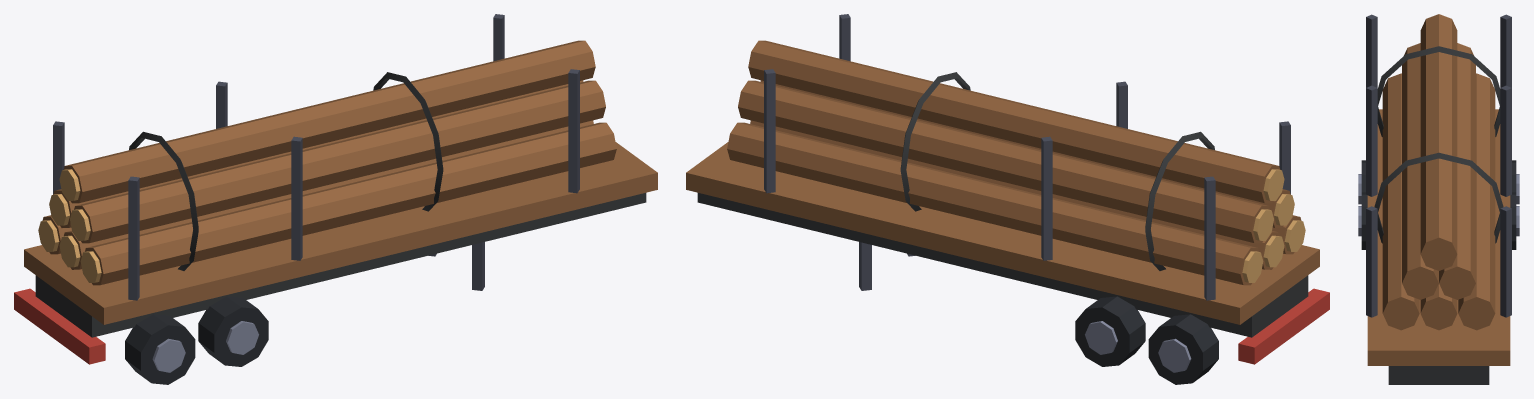
File: semi.trailer-logs.glb
The picture shows the model from 3 angles, left to right: view 1: azimuth 30°, elevation 25°; view 2: azimuth 150°, elevation 25°; view 3: azimuth 270°, elevation 25°; orthographic projection. The views are drawn at different scales.
Visible parts, largest first — view 1: model; view 2: model; view 3: model.
Part boxes in pixels (bbox=[...]): model: bbox=[14, 14, 657, 384]; model: bbox=[686, 14, 1329, 384]; model: bbox=[1358, 14, 1519, 384].
Size of the model in its own units: 0.695 by 0.245 by 0.192.
1 material, 1 textured.
